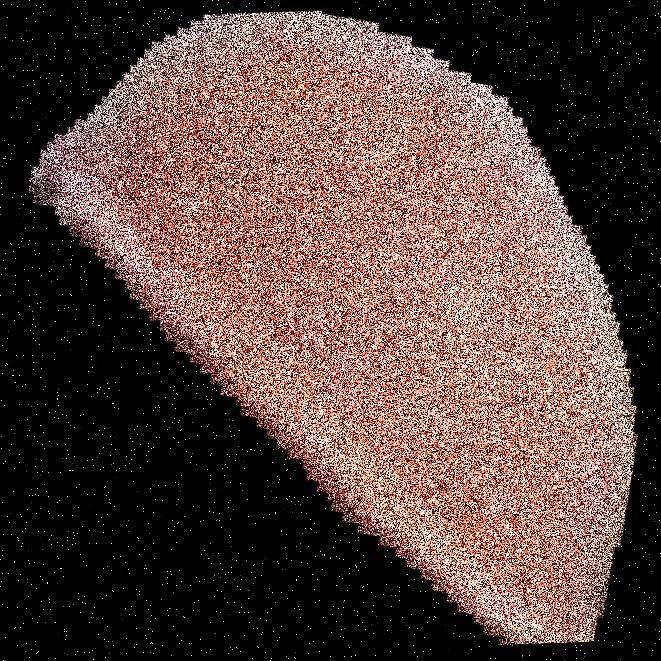Capacete: (338, 0, 533, 660)
